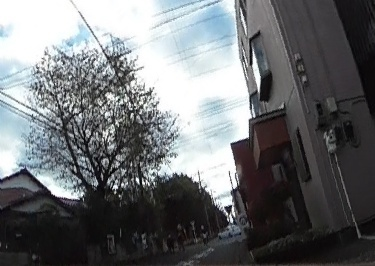person: (173, 222, 187, 251), (163, 230, 174, 254), (198, 223, 209, 244)
